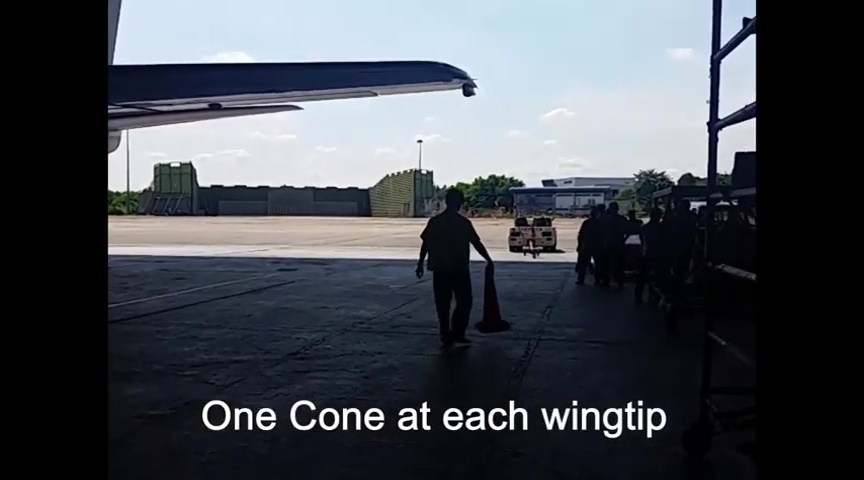safety_cone: (474, 266, 511, 334)
